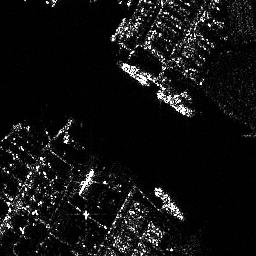ship: (154, 186, 184, 221), (158, 91, 196, 116), (117, 64, 154, 85)
